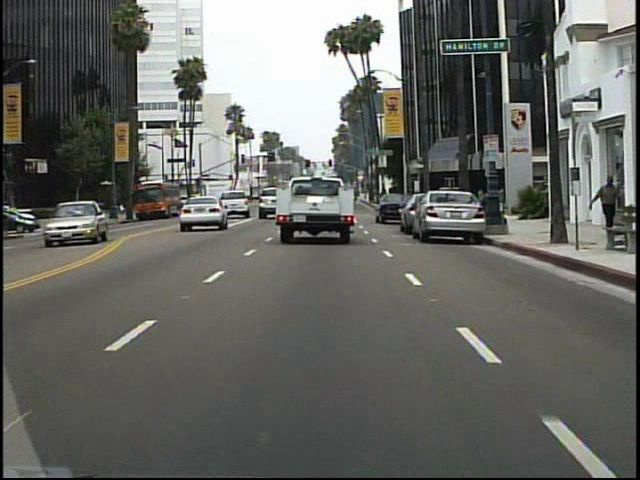person: (586, 173, 622, 239), (96, 195, 110, 223)
